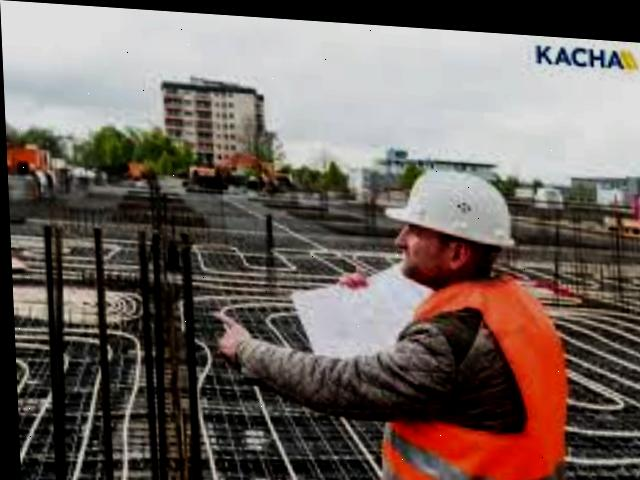helmet: (360, 134, 537, 260)
vest: (369, 277, 581, 480)
